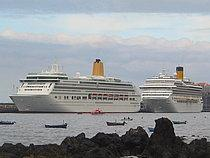Ship: (9, 57, 146, 118), (143, 64, 209, 118)
